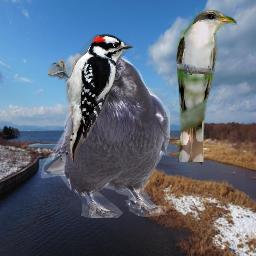Crow: (41, 53, 170, 218)
Cuckoo: (175, 9, 237, 162)
Woodpecker: (48, 34, 133, 161)
